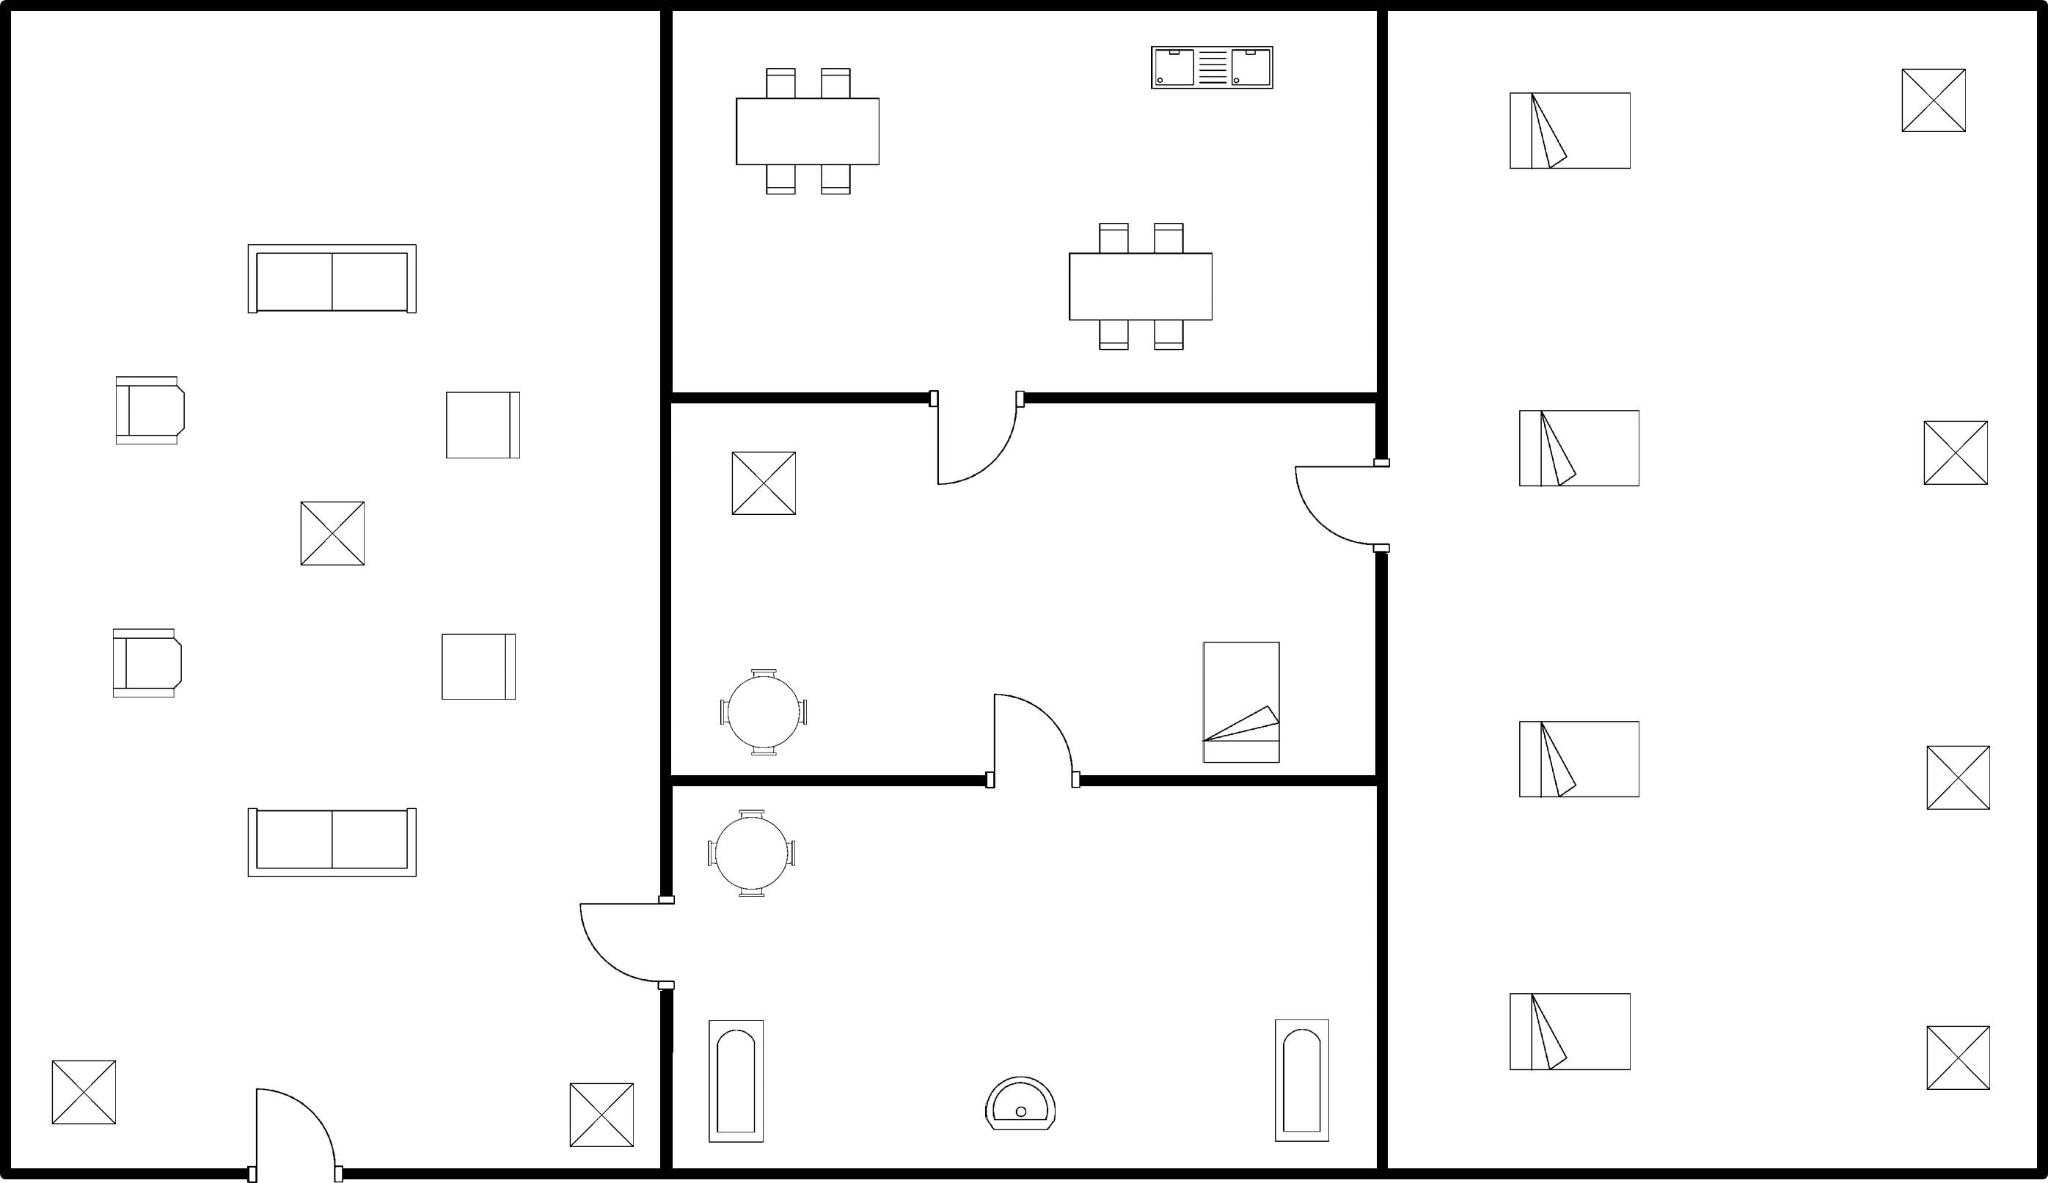sink: (1143, 34, 1289, 100)
